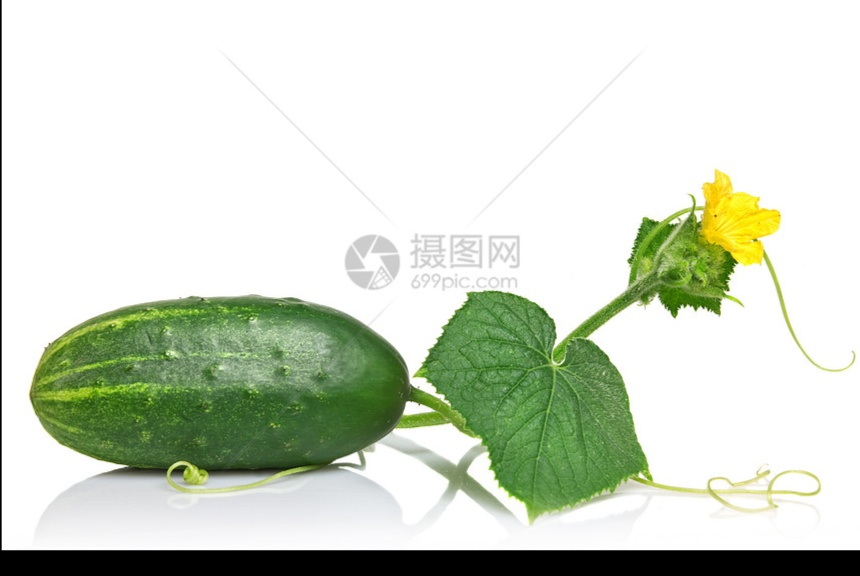cucumber: (28, 300, 412, 472)
cucumber_plant: (416, 150, 793, 511)
